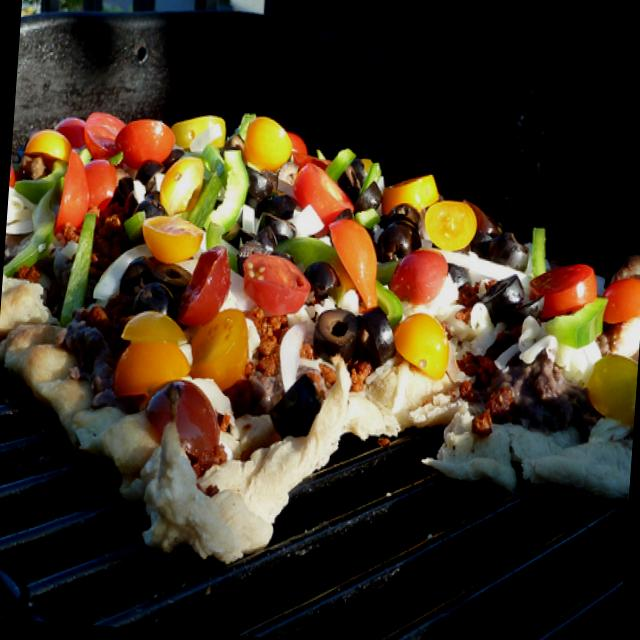Vehicle: (97, 0, 263, 23)
